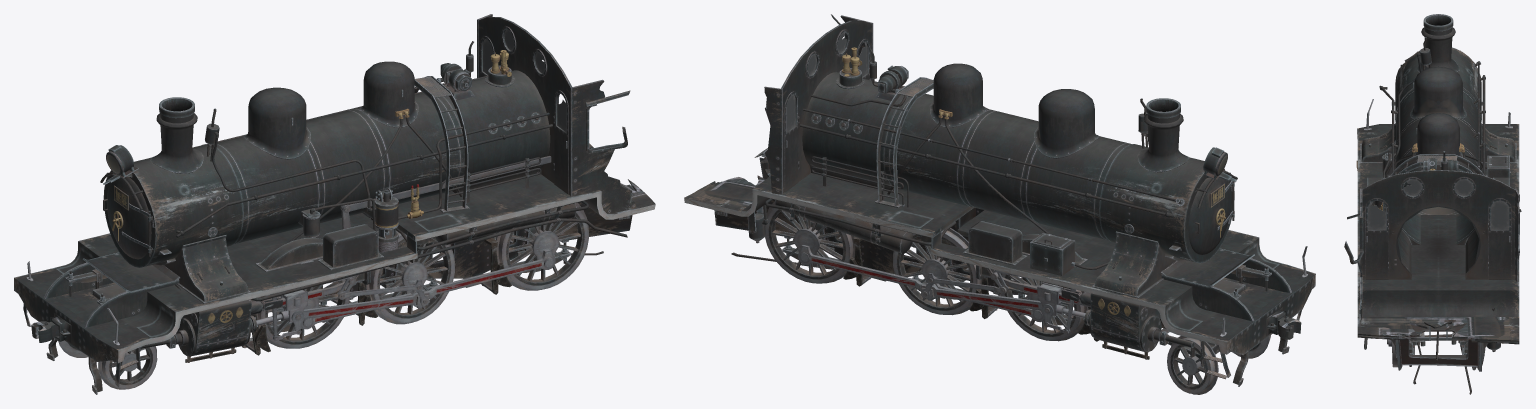
File: TrainHead.fbx
The picture shows the model from 3 angles, left to right: view 1: azimuth 30°, elevation 25°; view 2: azimuth 150°, elevation 25°; view 3: azimuth 270°, elevation 25°; orthographic projection. The views are drawn at different scales.
Visible parts, largest first — view 1: 0009_SM_d_114_BrokenLocomotive_01a, 0002_SM_d_114_BrokenLocomotive_01a, 0000_SM_d_114_BrokenLocomotive_01a, 0005_SM_d_114_BrokenLocomotive_01a, 0003_SM_d_114_BrokenLocomotive_01a, 0008_SM_d_114_BrokenLocomotive_01a, 0001_SM_d_114_BrokenLocomotive_01a, 0004_SM_d_114_BrokenLocomotive_01a, 0010_SM_d_114_BrokenLocomotive_01a; view 2: 0009_SM_d_114_BrokenLocomotive_01a, 0002_SM_d_114_BrokenLocomotive_01a, 0000_SM_d_114_BrokenLocomotive_01a, 0003_SM_d_114_BrokenLocomotive_01a, 0005_SM_d_114_BrokenLocomotive_01a, 0008_SM_d_114_BrokenLocomotive_01a, 0001_SM_d_114_BrokenLocomotive_01a, 0006_SM_d_114_BrokenLocomotive_01a, 0004_SM_d_114_BrokenLocomotive_01a, 0010_SM_d_114_BrokenLocomotive_01a; view 3: 0005_SM_d_114_BrokenLocomotive_01a, 0002_SM_d_114_BrokenLocomotive_01a, 0008_SM_d_114_BrokenLocomotive_01a, 0009_SM_d_114_BrokenLocomotive_01a, 0006_SM_d_114_BrokenLocomotive_01a, 0003_SM_d_114_BrokenLocomotive_01a, 0001_SM_d_114_BrokenLocomotive_01a, 0004_SM_d_114_BrokenLocomotive_01a, 0007_SM_d_114_BrokenLocomotive_01a, 0000_SM_d_114_BrokenLocomotive_01a.
Boxes of the visible parts, left/top/right/bottom form: 0009_SM_d_114_BrokenLocomotive_01a: left=14, top=70, right=550, bottom=363; 0002_SM_d_114_BrokenLocomotive_01a: left=26, top=50, right=570, bottom=369; 0000_SM_d_114_BrokenLocomotive_01a: left=23, top=156, right=588, bottom=394; 0005_SM_d_114_BrokenLocomotive_01a: left=477, top=14, right=636, bottom=213; 0003_SM_d_114_BrokenLocomotive_01a: left=69, top=41, right=627, bottom=322; 0008_SM_d_114_BrokenLocomotive_01a: left=397, top=174, right=655, bottom=241; 0001_SM_d_114_BrokenLocomotive_01a: left=131, top=184, right=632, bottom=352; 0004_SM_d_114_BrokenLocomotive_01a: left=483, top=29, right=566, bottom=132; 0010_SM_d_114_BrokenLocomotive_01a: left=31, top=313, right=71, bottom=342; 0009_SM_d_114_BrokenLocomotive_01a: left=802, top=72, right=1315, bottom=378; 0002_SM_d_114_BrokenLocomotive_01a: left=782, top=47, right=1307, bottom=379; 0000_SM_d_114_BrokenLocomotive_01a: left=765, top=200, right=1301, bottom=394; 0003_SM_d_114_BrokenLocomotive_01a: left=731, top=48, right=1267, bottom=299; 0005_SM_d_114_BrokenLocomotive_01a: left=764, top=14, right=873, bottom=194; 0008_SM_d_114_BrokenLocomotive_01a: left=684, top=173, right=973, bottom=237; 0001_SM_d_114_BrokenLocomotive_01a: left=714, top=157, right=1190, bottom=354; 0006_SM_d_114_BrokenLocomotive_01a: left=684, top=148, right=770, bottom=211; 0004_SM_d_114_BrokenLocomotive_01a: left=786, top=32, right=867, bottom=131; 0010_SM_d_114_BrokenLocomotive_01a: left=1266, top=307, right=1301, bottom=339; 0005_SM_d_114_BrokenLocomotive_01a: left=1344, top=170, right=1521, bottom=326; 0002_SM_d_114_BrokenLocomotive_01a: left=1360, top=14, right=1516, bottom=354; 0008_SM_d_114_BrokenLocomotive_01a: left=1357, top=215, right=1519, bottom=316; 0009_SM_d_114_BrokenLocomotive_01a: left=1357, top=47, right=1519, bottom=273; 0006_SM_d_114_BrokenLocomotive_01a: left=1357, top=317, right=1519, bottom=340; 0003_SM_d_114_BrokenLocomotive_01a: left=1364, top=37, right=1500, bottom=394; 0001_SM_d_114_BrokenLocomotive_01a: left=1389, top=322, right=1488, bottom=371; 0004_SM_d_114_BrokenLocomotive_01a: left=1368, top=179, right=1508, bottom=229; 0007_SM_d_114_BrokenLocomotive_01a: left=1357, top=334, right=1519, bottom=344; 0000_SM_d_114_BrokenLocomotive_01a: left=1356, top=160, right=1486, bottom=370.
Bounding box in the file's own units: 14.61 × 6.19 × 4.61.
